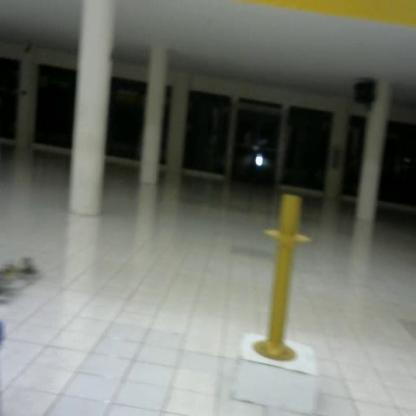pole: (251, 193, 317, 365)
